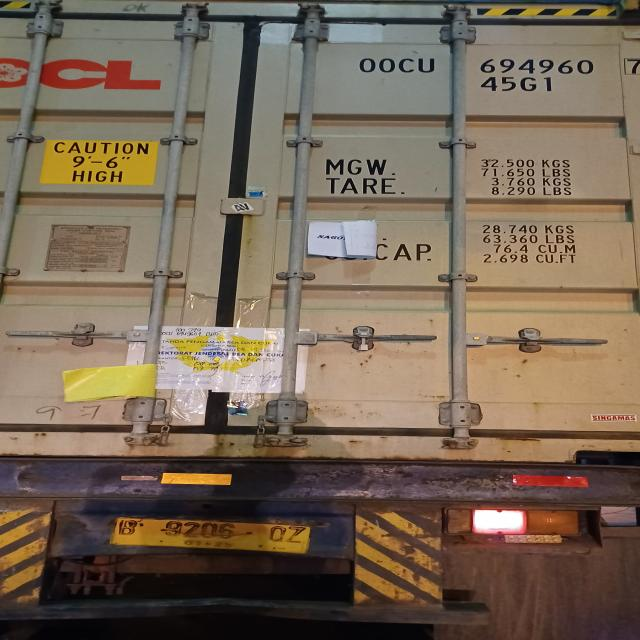seal: (352, 330, 375, 352)
